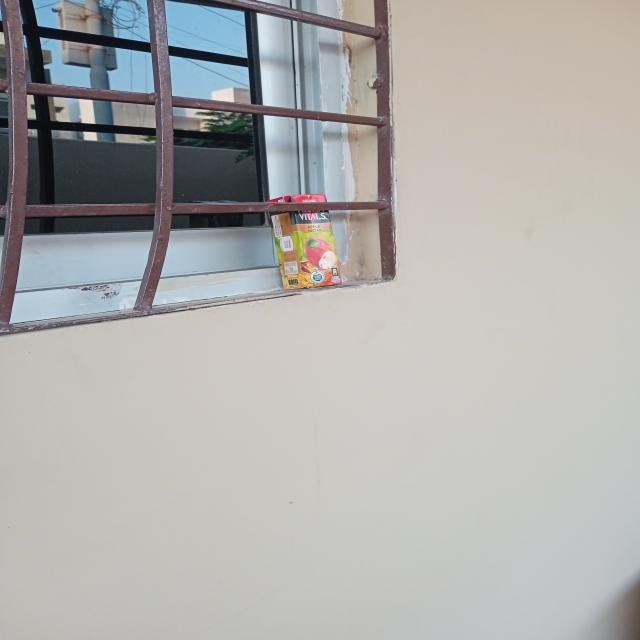Plastic: (278, 195, 340, 288)
